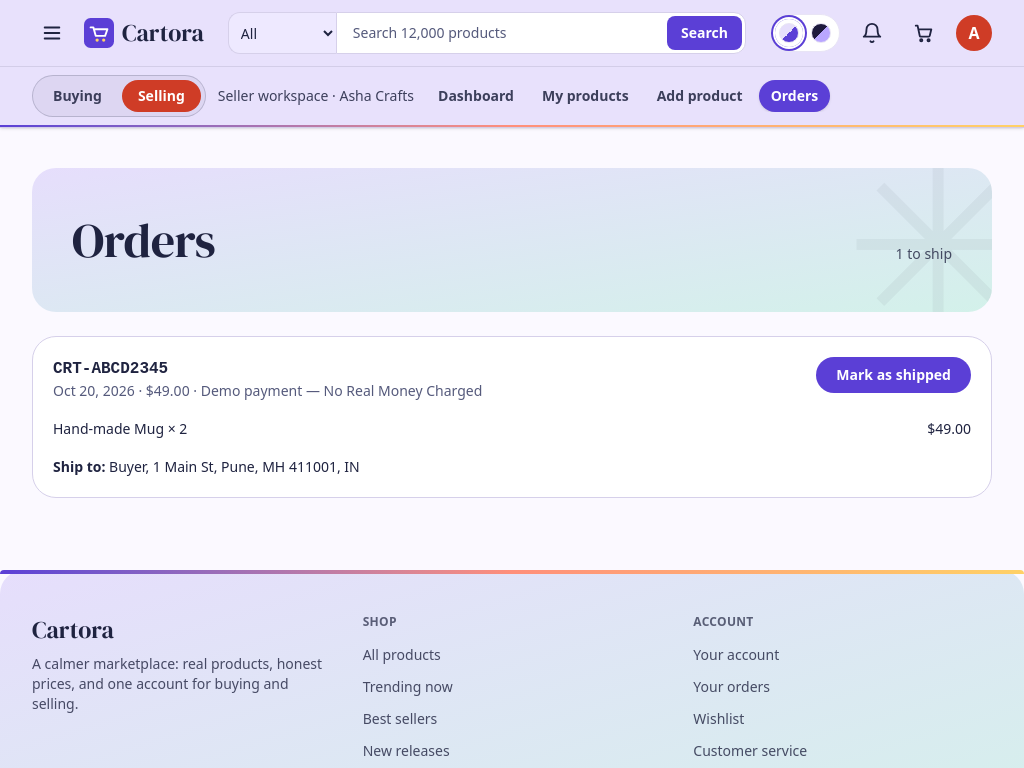
it: seller workspace › lists orders with the ship-to address and marks one shipped after the server confirms
Expected: the text "CRT-ABCD2345" is shown, top-left (53, 360), bottom-right (168, 378)
Expected: the text "Oct 20, 2026 · $49.00 · Demo payment — No Real Money Charged" is shown, top-left (53, 381), bottom-right (482, 401)
What coordinates should you click on to do the following:
click the button with aria-label "Mark order CRT-ABCD2345 as shipped"
I would click on:
 (894, 375)
Its box is top-left (816, 357), bottom-right (971, 393).
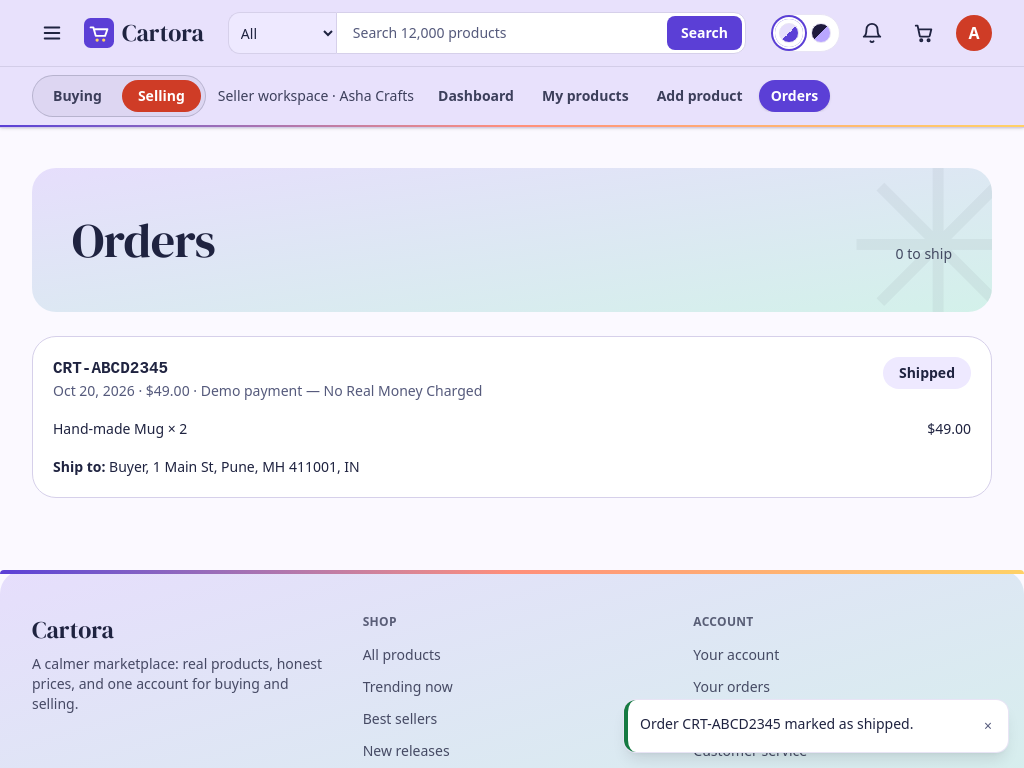
Now the text "Order CRT-ABCD2345 marked as shipped." is shown, box top-left (640, 714), bottom-right (913, 733)
Now the text "Shipped" is shown, box top-left (883, 357), bottom-right (971, 389)
